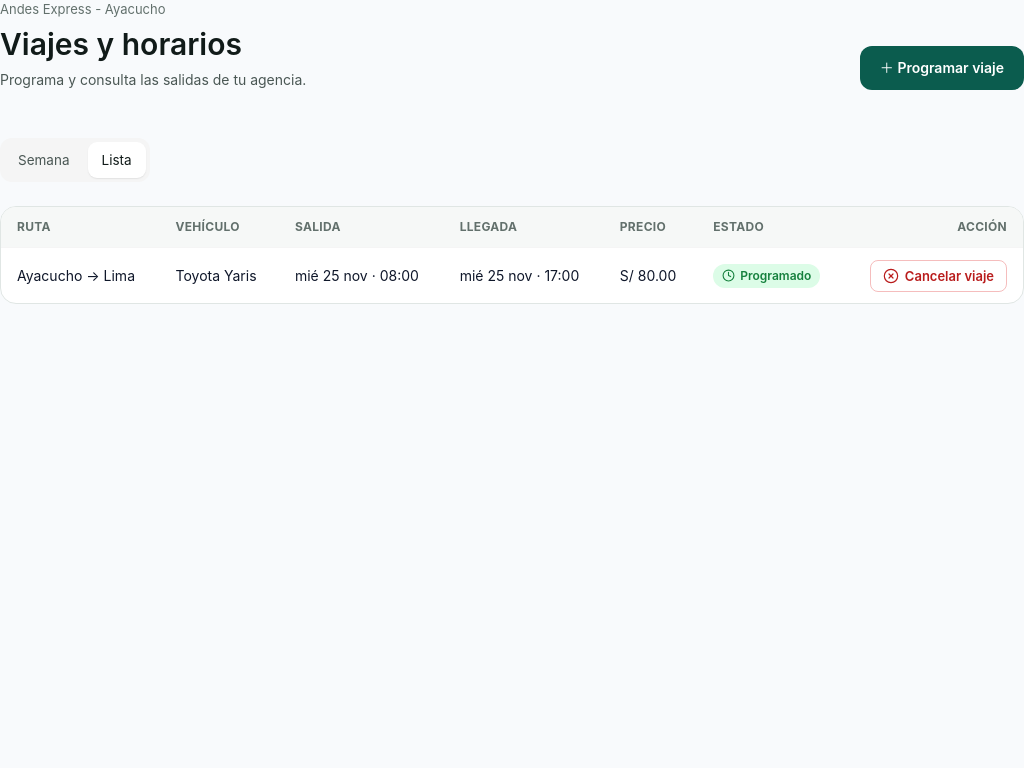
it: AgencyCatalogPage › shows a trip cancellation conflict inside the confirmation dialog
Click the button with aria-label "Cancelar viaje Ayacucho a Lima".
click(938, 276)  # box [870, 260, 1007, 292]
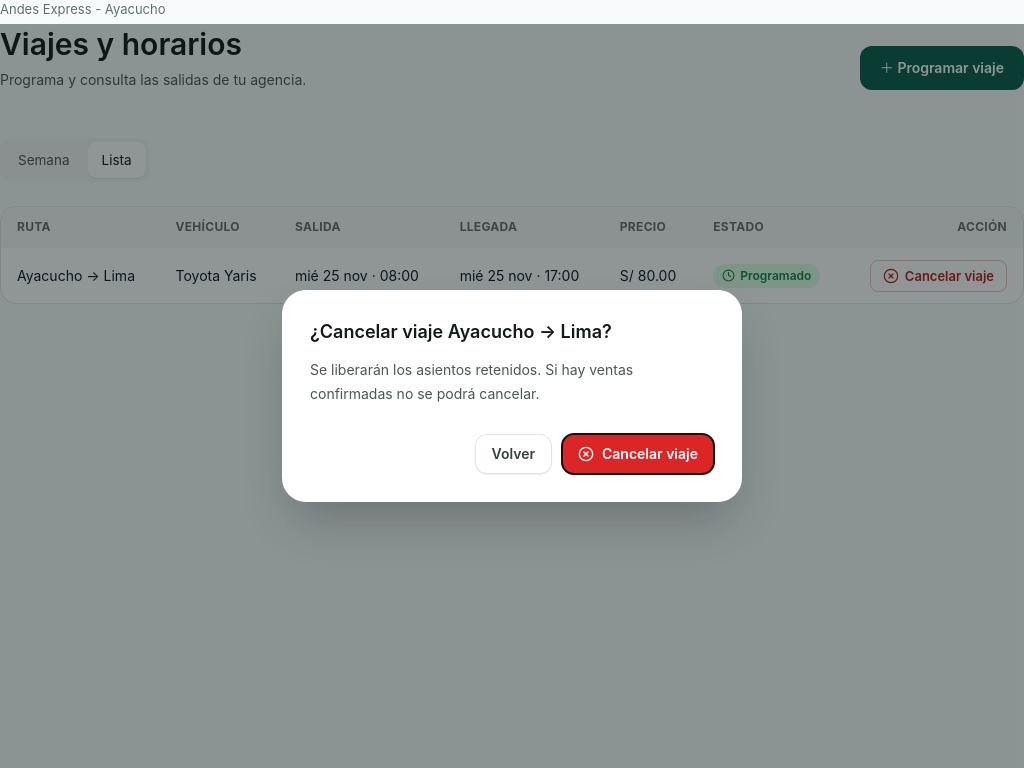
Click the button "Cancelar viaje".
click(638, 454)  # box [562, 434, 714, 474]
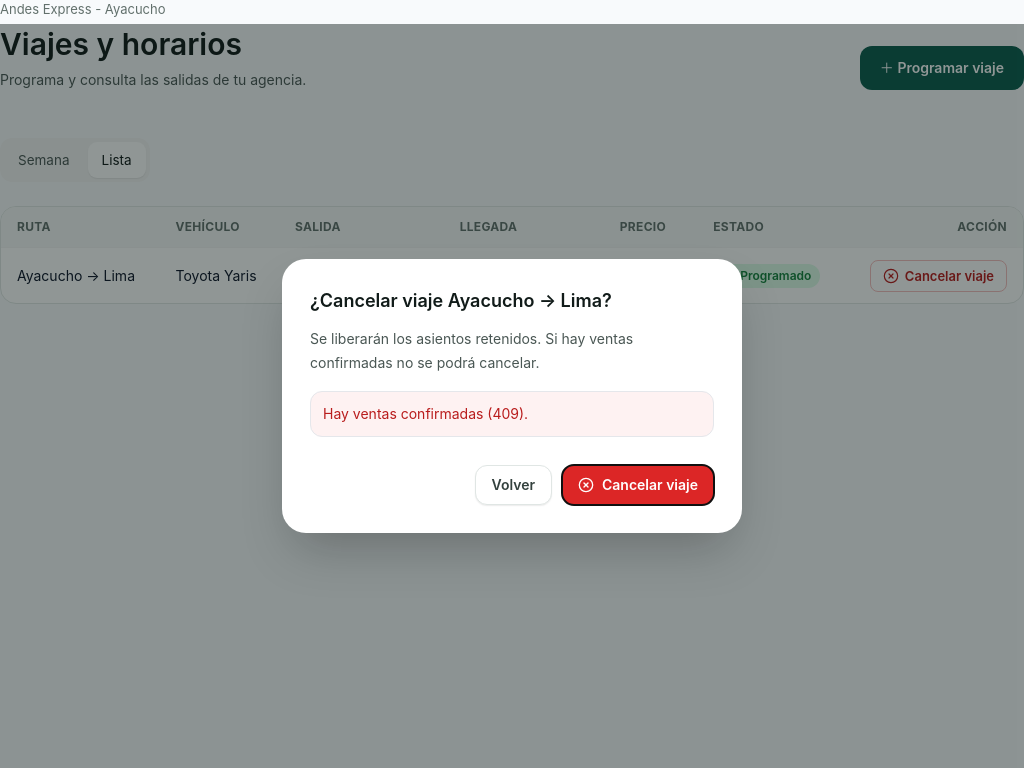
Result: the dialog is shown at [282, 259, 742, 533]
Result: the message reads "Hay ventas confirmadas (409)." at [323, 405, 528, 422]
